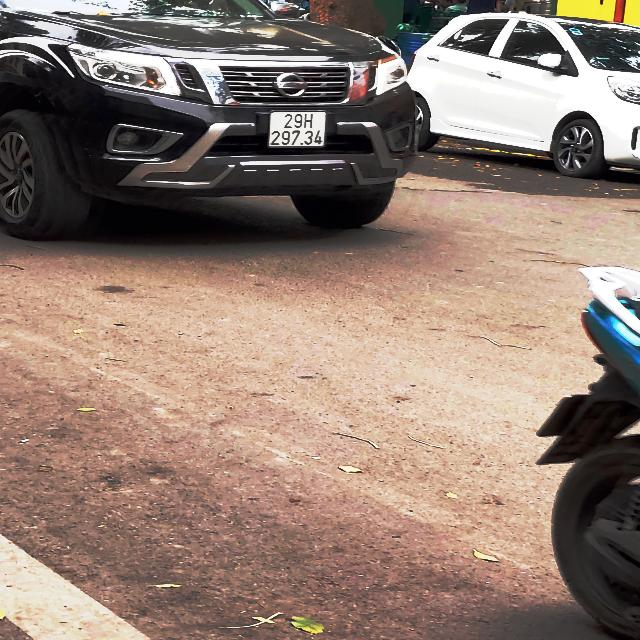license_plate: (270, 111, 329, 150)
